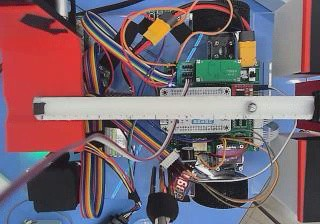ironball: (247, 101, 256, 111)
